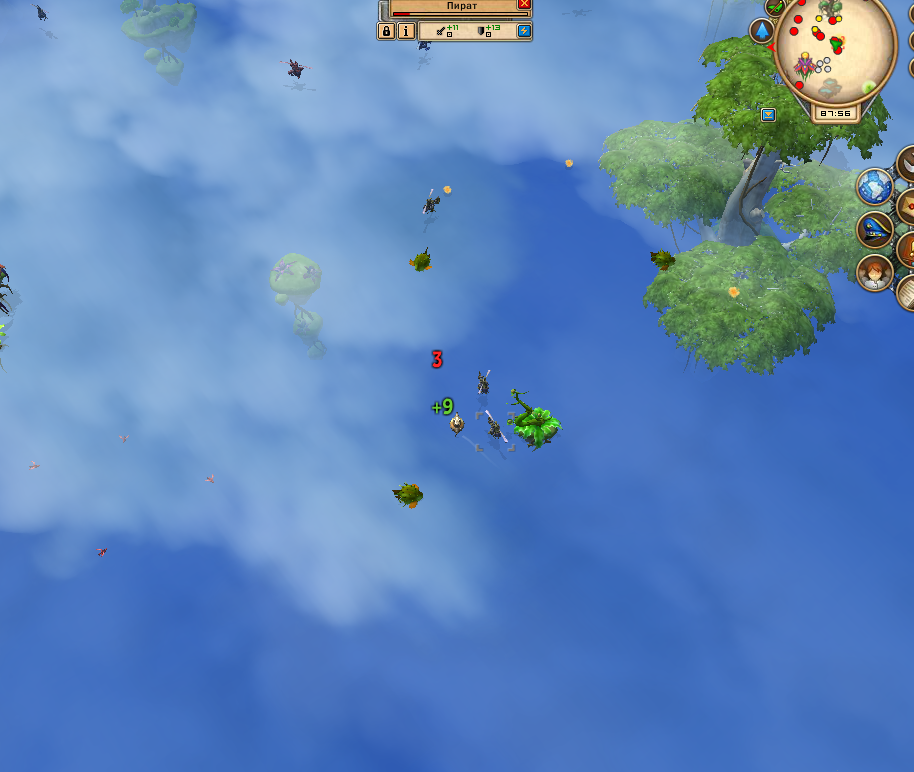dandelion-empty: (504, 376, 567, 455)
fluff: (723, 283, 743, 299), (439, 182, 454, 196), (563, 154, 576, 169)
